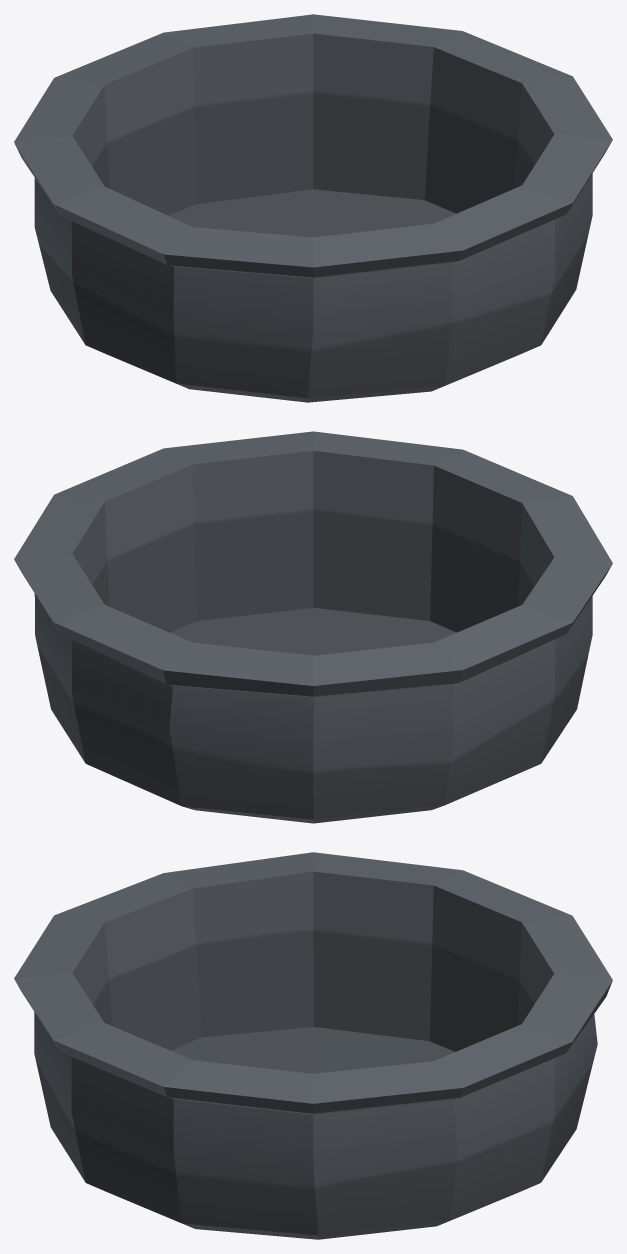
The model's file is SM_Prop_Pot_Large_02.glb.
3 renders of one model, top to bottom at view 1: azimuth 30°, elevation 25°; view 2: azimuth 150°, elevation 25°; view 3: azimuth 270°, elevation 25°, orthographic.
Visible parts, largest first — view 1: SM_Prop_Pot_Large_02; view 2: SM_Prop_Pot_Large_02; view 3: SM_Prop_Pot_Large_02.
Part boxes in pixels (x1,y1,x2,y2): SM_Prop_Pot_Large_02: (14, 14, 612, 402); SM_Prop_Pot_Large_02: (14, 431, 612, 823); SM_Prop_Pot_Large_02: (14, 852, 612, 1239).
Bounding box in the file's own units: 1.35 × 0.4254 × 1.35.
Materials: 1 (1 with a texture image).
